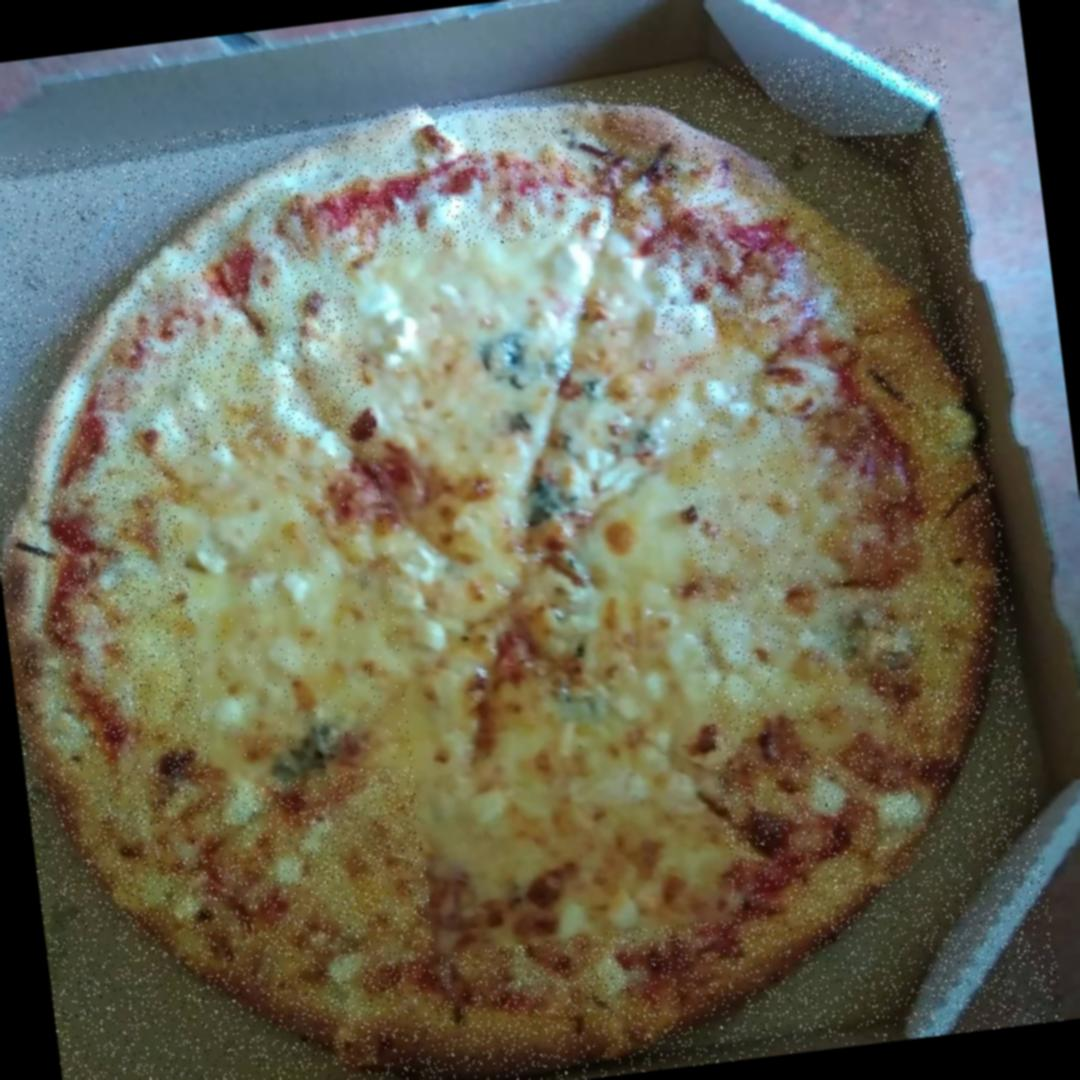Cheese: (351, 224, 734, 954), (664, 315, 888, 767), (174, 433, 411, 788)
Pizza: (0, 40, 1063, 1080)
